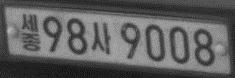0: (144, 23, 166, 62), (168, 26, 190, 64)
8: (193, 27, 215, 66), (65, 17, 88, 54)
9: (120, 21, 141, 58), (42, 15, 62, 53)
사: (91, 21, 112, 54)
세종_V: (21, 12, 41, 51)
